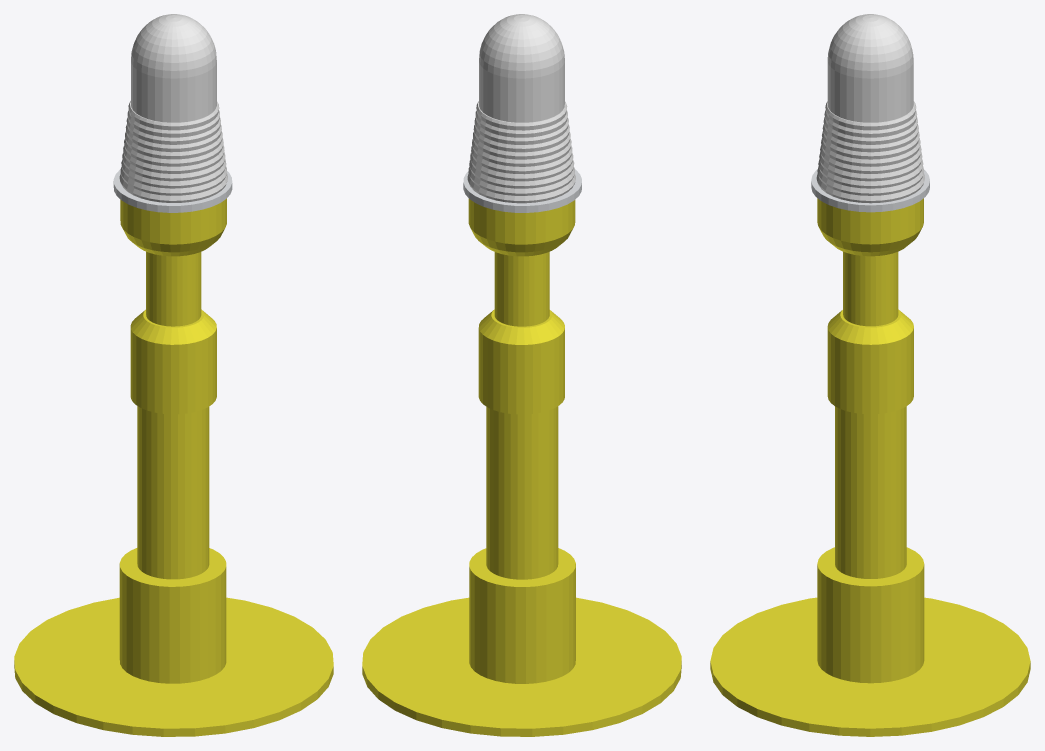
The model's file is RWYEdgeLight.fbx.
The picture shows the model from 3 angles, left to right: view 1: azimuth 30°, elevation 25°; view 2: azimuth 150°, elevation 25°; view 3: azimuth 270°, elevation 25°; orthographic projection.
Parts seen in each view (by area): view 1: support6, light.001, lightbase1; view 2: support6, light.001, lightbase1; view 3: support6, light.001, lightbase1.
Boxes of the visible parts, x1,y1,x2,y2 form: support6: (14, 198, 333, 736); light.001: (119, 14, 227, 202); lightbase1: (113, 169, 232, 212); support6: (362, 198, 681, 736); light.001: (467, 14, 575, 203); lightbase1: (463, 169, 581, 212); support6: (710, 198, 1030, 736); light.001: (816, 14, 924, 203); lightbase1: (811, 169, 929, 212).
Size of the model in its own units: 538 by 1207 by 538.
